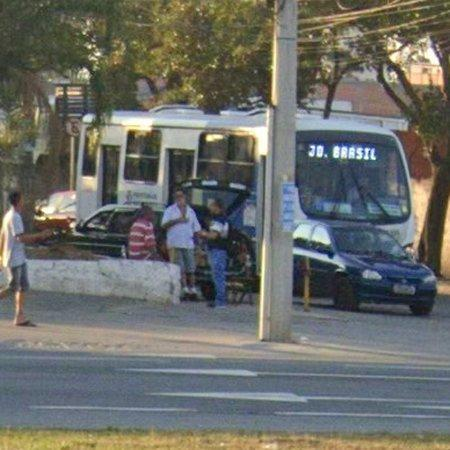buses: (77, 108, 266, 292), (297, 113, 416, 246)
